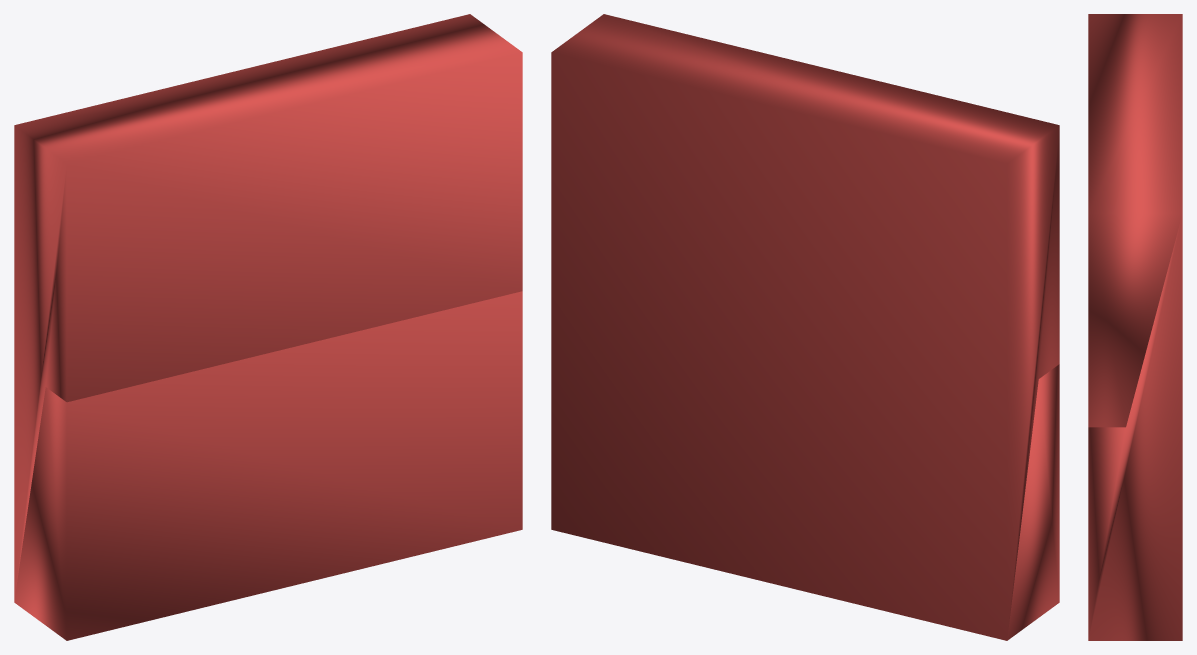
Rendered from expected.gltf.
3 renders of one model, left to right at view 1: azimuth 30°, elevation 25°; view 2: azimuth 150°, elevation 25°; view 3: azimuth 270°, elevation 25°, orthographic. The views are drawn at different scales.
Size of the model in its own units: 50 by 50 by 10.
